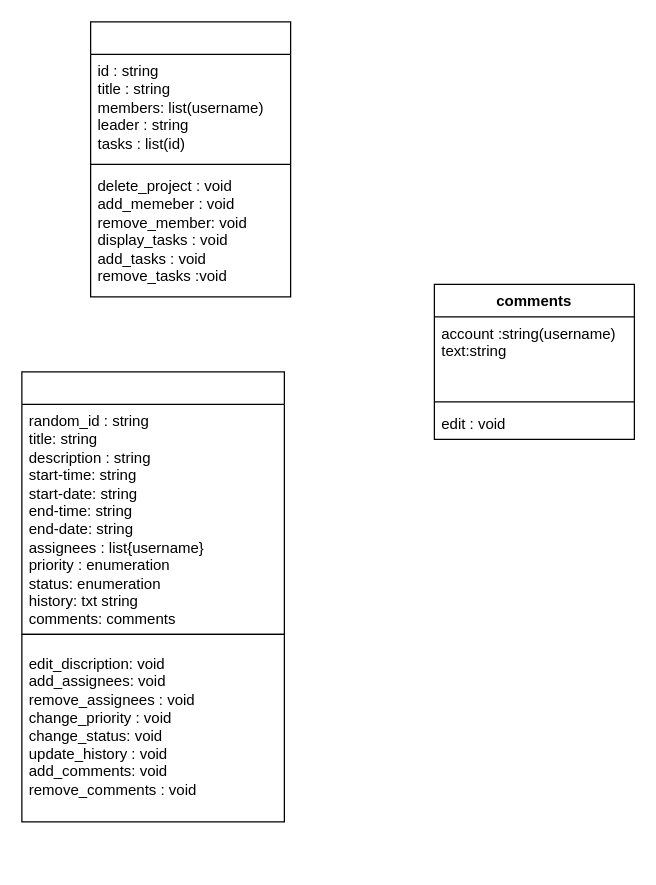
This 656x885 diagram has some shape labels left out. The box of each missing label's shape, as (x1, y1, x2, y2) in pixels:
projects: (89, 21, 291, 297)
Task: (21, 371, 284, 634)
